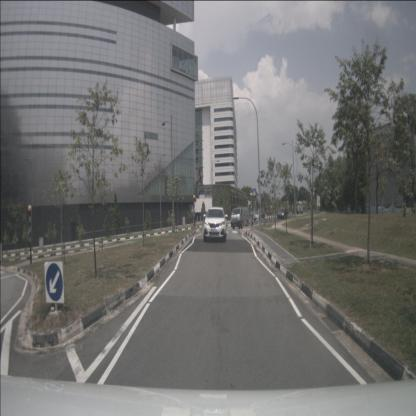vehicle-car: (203, 206, 227, 242), (230, 206, 250, 230), (253, 209, 266, 222), (277, 207, 289, 220)
vehicle-truck: (296, 201, 303, 214)
